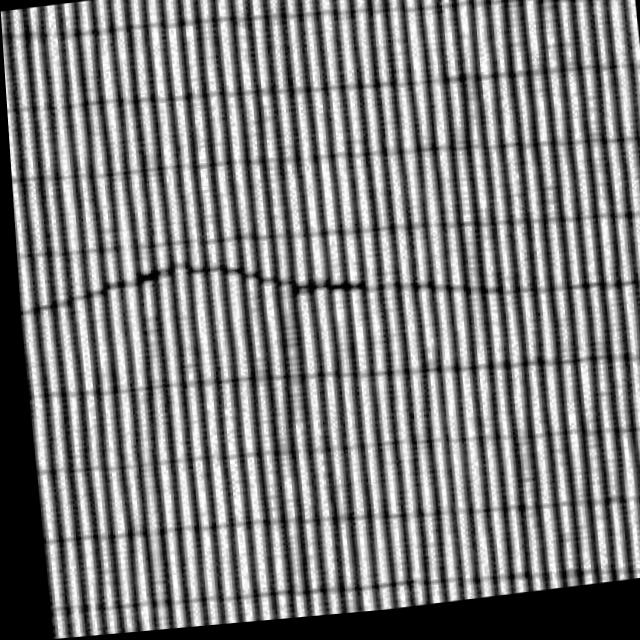Stitch: (57, 214, 418, 374)
